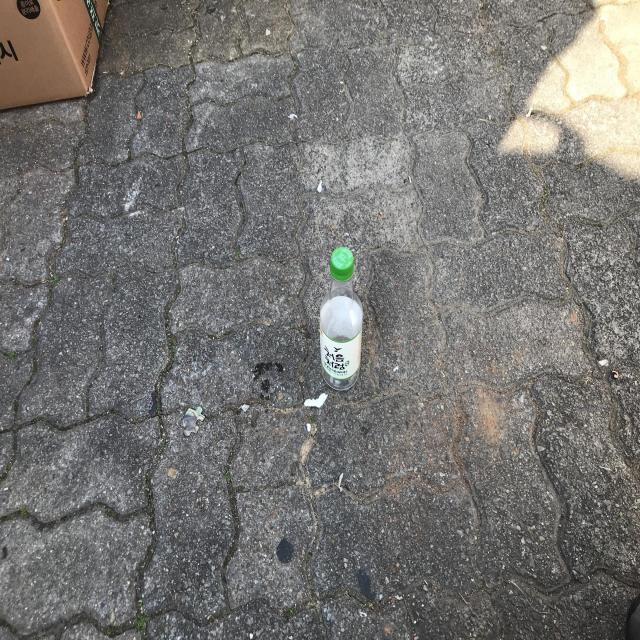plastic: (320, 246, 363, 390)
